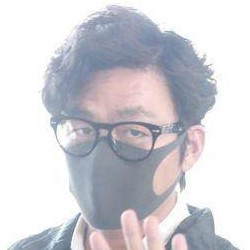mask: (50, 128, 186, 230)
